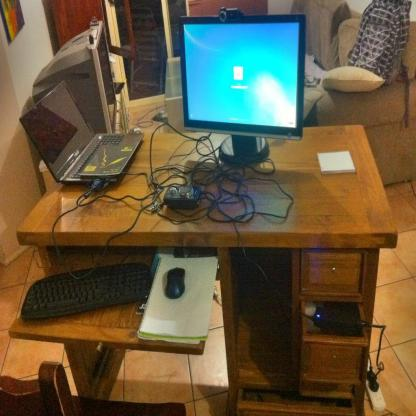board: (18, 78, 146, 186)
